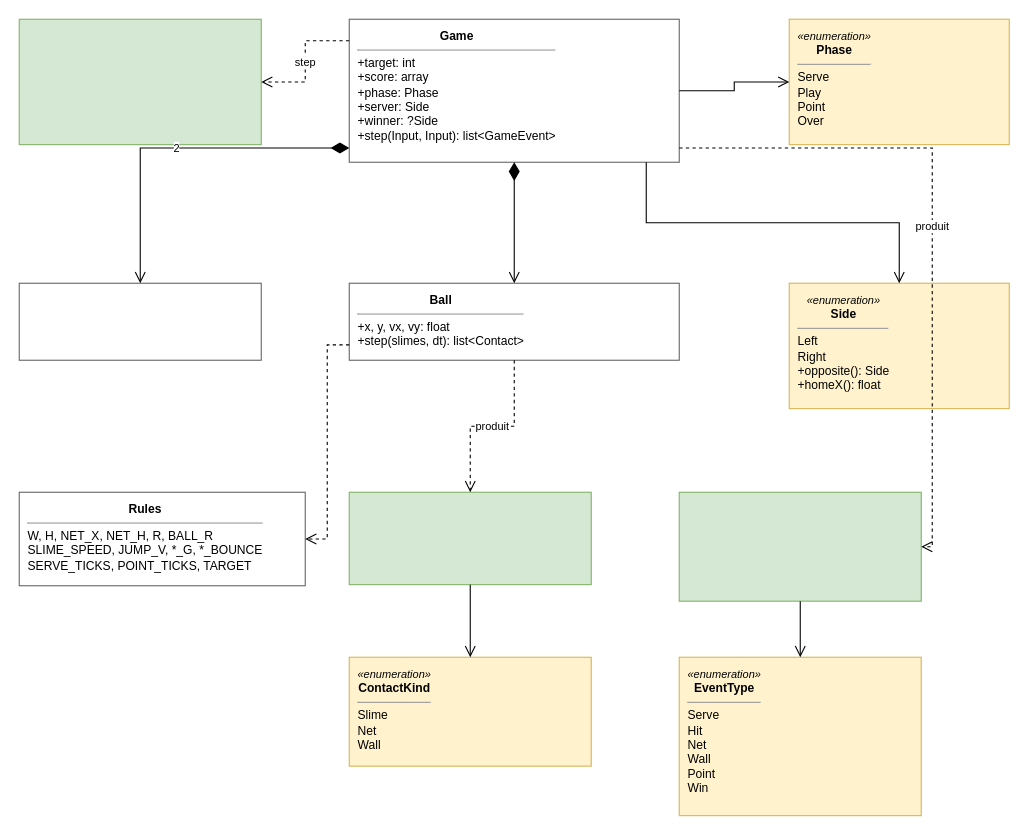
The diagram is 1029 pixels wide and 835 high, and some of its shapes have lost their labels. The shapes that lost their labels are listed below. From the top down, each one's centre as x and y in pixels, then its label:
At point 139,81: "«readonly» Input +left: bool +right: bool +up: bool +fromBits(int): Input".
At point 139,321: "Slime +x, y, vx, vy: float +step(Side, Input): void".
At point 469,538: "«readonly» Contact +kind: ContactKind +power: float".
At point 799,546: "«readonly» GameEvent +type: EventType +side: ?Side +power: float".
